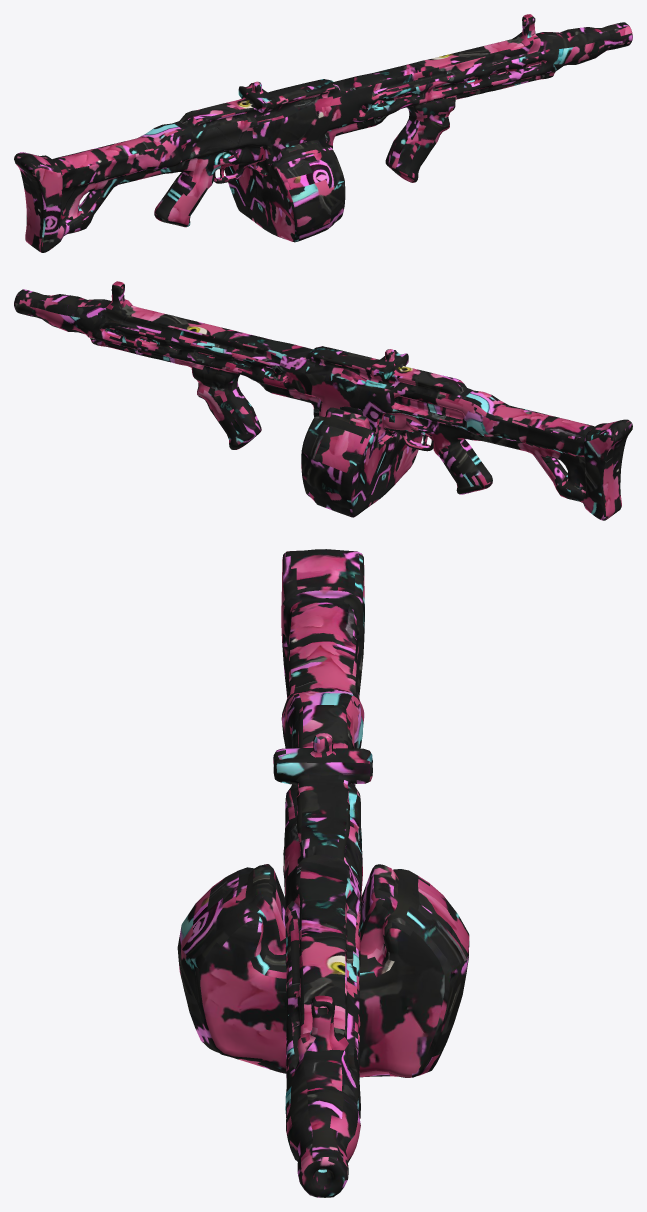
File: Titan.fbx
3 renders of one model, top to bottom at view 1: azimuth 30°, elevation 25°; view 2: azimuth 150°, elevation 25°; view 3: azimuth 270°, elevation 25°, orthographic. The views are drawn at different scales.
Visible parts, largest first — view 1: Body, Charger; view 2: Body, Charger; view 3: Body, Charger.
Boxes of the visible parts, x1=… form: Body: x1=14, y1=14, x2=632, y2=252; Charger: x1=224, y1=139, x2=345, y2=242; Body: x1=14, y1=281, x2=632, y2=520; Charger: x1=301, y1=406, x2=422, y2=517; Body: x1=273, y1=549, x2=372, y2=1197; Charger: x1=177, y1=864, x2=469, y2=1077.
Bounding box in the file's own units: 99.98 × 24.07 × 20.88.
